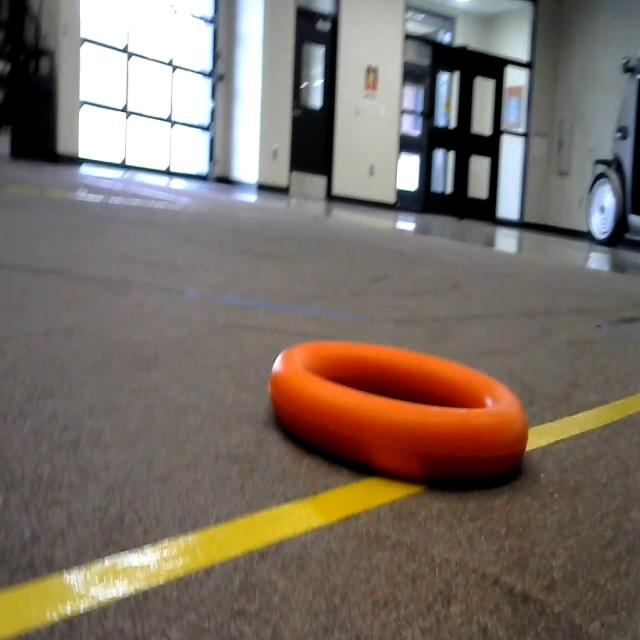note: (257, 310, 546, 517)
